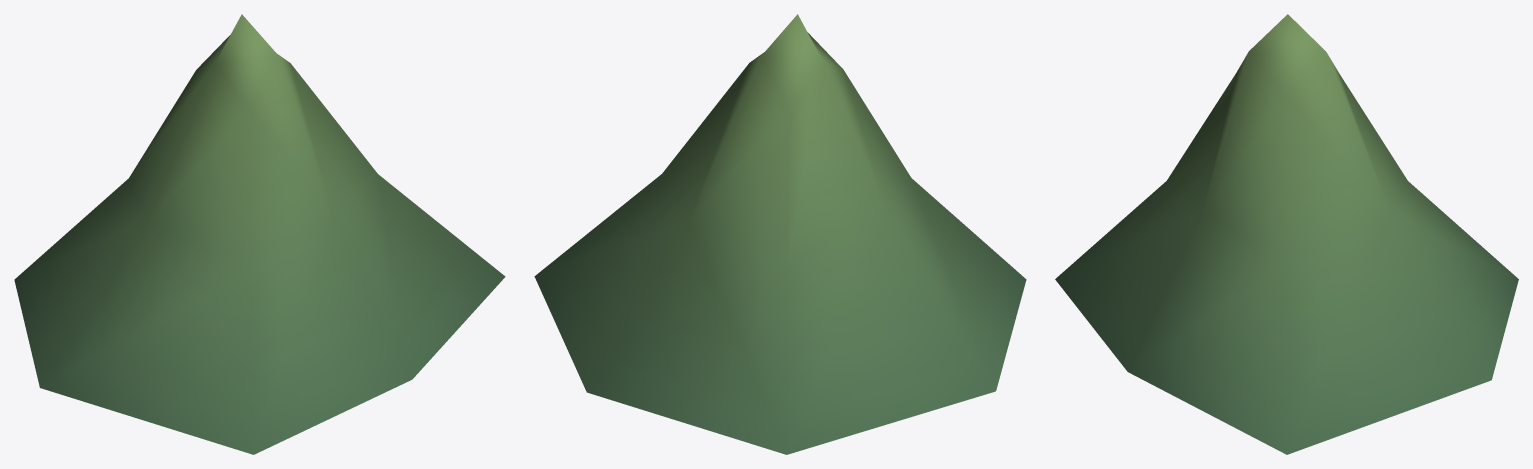
The model's file is Mountain001.glb.
The picture shows the model from 3 angles, left to right: view 1: azimuth 30°, elevation 25°; view 2: azimuth 150°, elevation 25°; view 3: azimuth 270°, elevation 25°; orthographic projection. The views are drawn at different scales.
Parts seen in each view (by area): view 1: Mountain001; view 2: Mountain001; view 3: Mountain001.
Boxes of the visible parts, left/top/right/bottom form: Mountain001: left=14, top=14, right=505, bottom=454; Mountain001: left=534, top=14, right=1026, bottom=454; Mountain001: left=1055, top=14, right=1518, bottom=454.
Bounding box in the file's own units: 879 × 592 × 787.
1 material, 1 textured.
